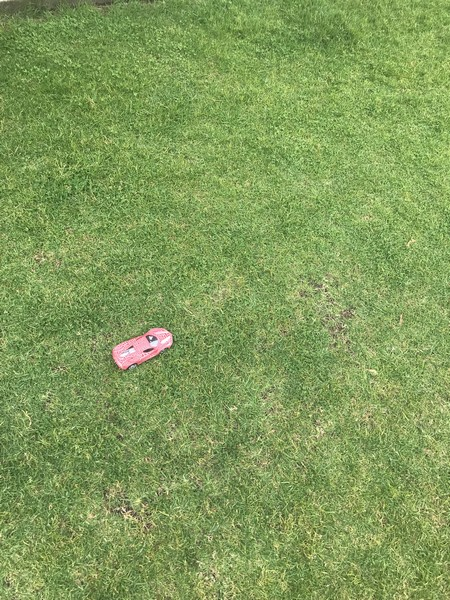RC: (110, 326, 176, 372)
